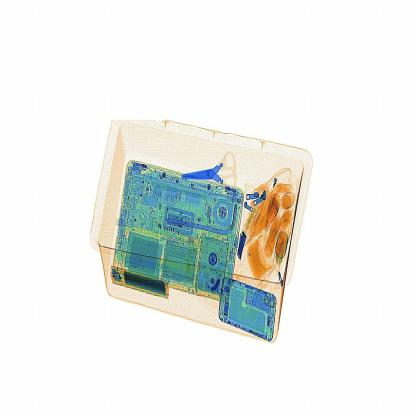gun: (177, 140, 252, 203)
